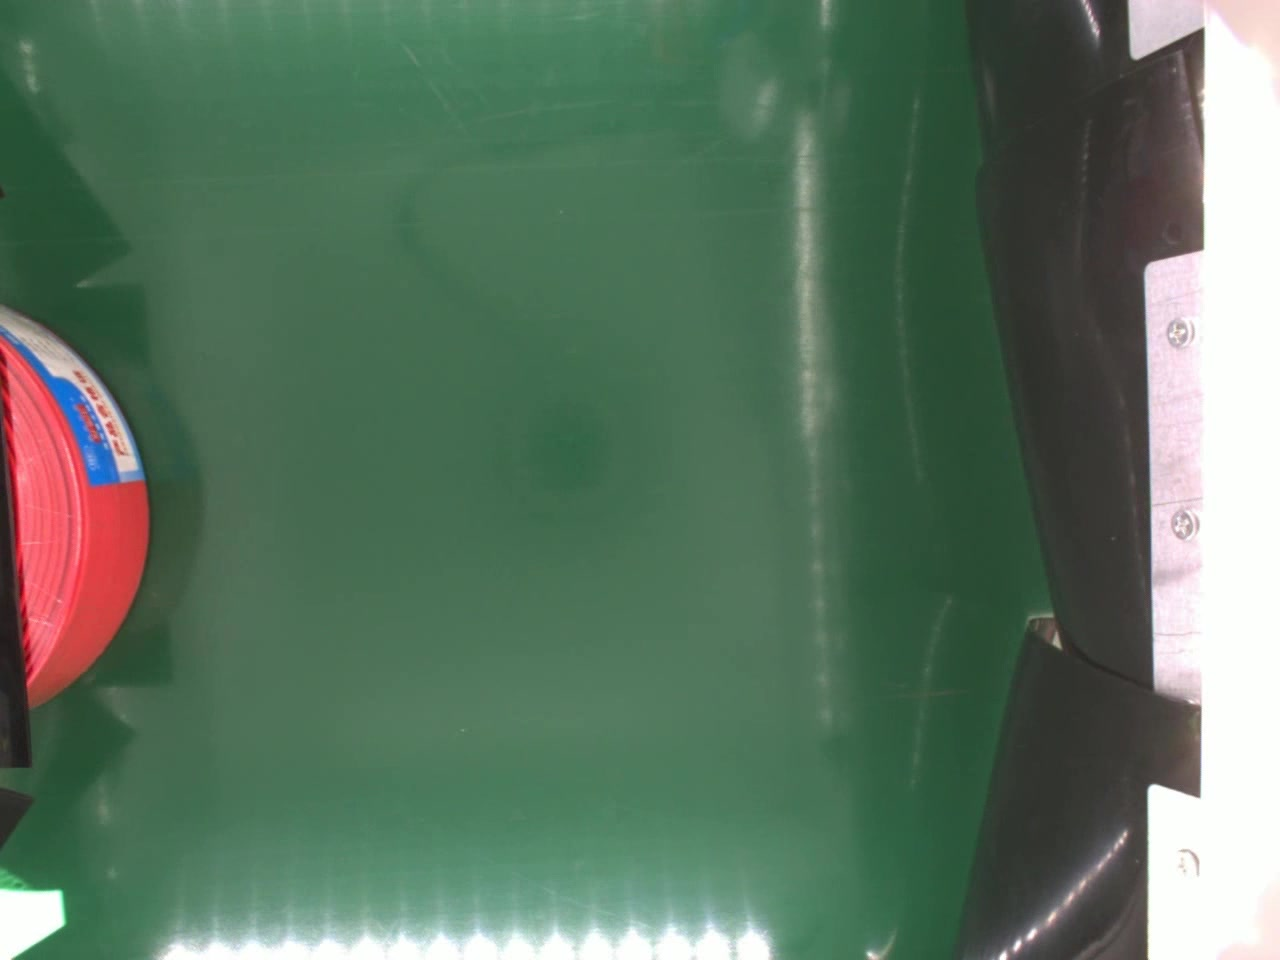red: (0, 291, 147, 700)
